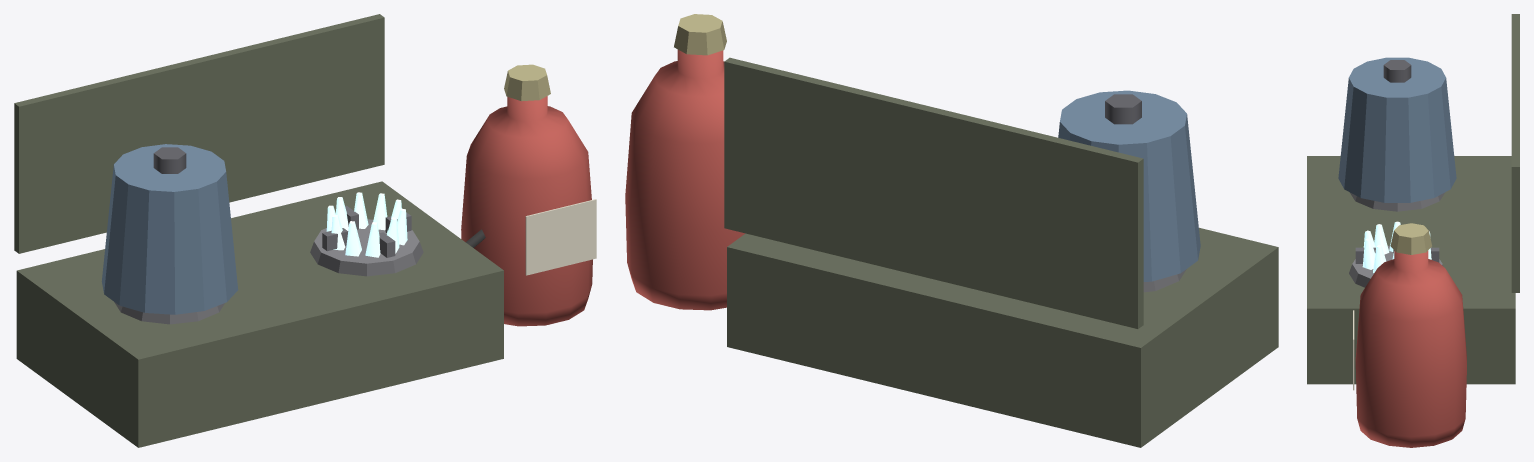
File: camp_stove_a.glb
3 renders of one model, left to right at view 1: azimuth 30°, elevation 25°; view 2: azimuth 150°, elevation 25°; view 3: azimuth 270°, elevation 25°, orthographic. The views are drawn at different scales.
Parts seen in each view (by area): view 1: body, flame; view 2: body; view 3: body, flame.
Boxes of the visible parts, x1,y1,x2,y2 form: body: [14, 14, 596, 447]; flame: [326, 192, 407, 257]; body: [625, 14, 1278, 447]; body: [1307, 14, 1519, 447]; flame: [1362, 221, 1431, 272].
Size of what is drawn, in the model's own units: 0.722 by 0.355 by 0.306.
